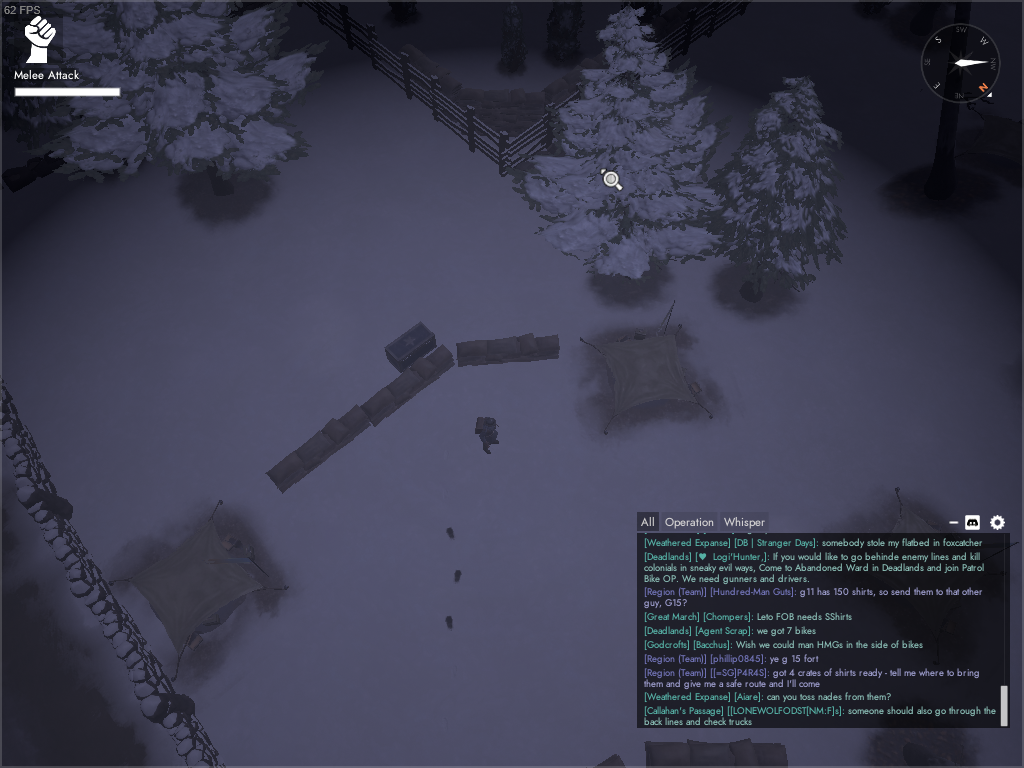foxhole: (107, 498, 291, 684), (841, 486, 1020, 643), (578, 298, 718, 437)
player: (475, 416, 502, 455)
sandbag: (265, 404, 373, 495), (359, 345, 456, 428), (643, 735, 788, 768), (543, 45, 620, 101), (462, 86, 550, 131), (393, 43, 461, 99), (456, 332, 560, 367)
storage_box: (383, 321, 436, 374)
